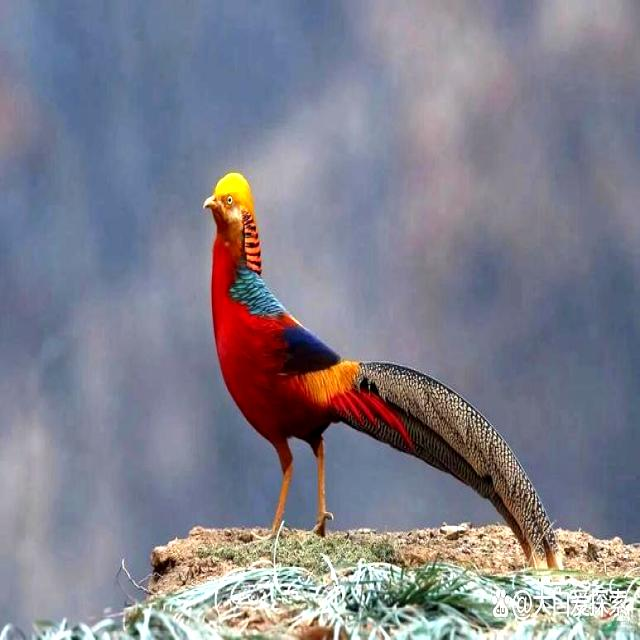Chrysolophus pictus feather: (334, 362, 560, 567)
